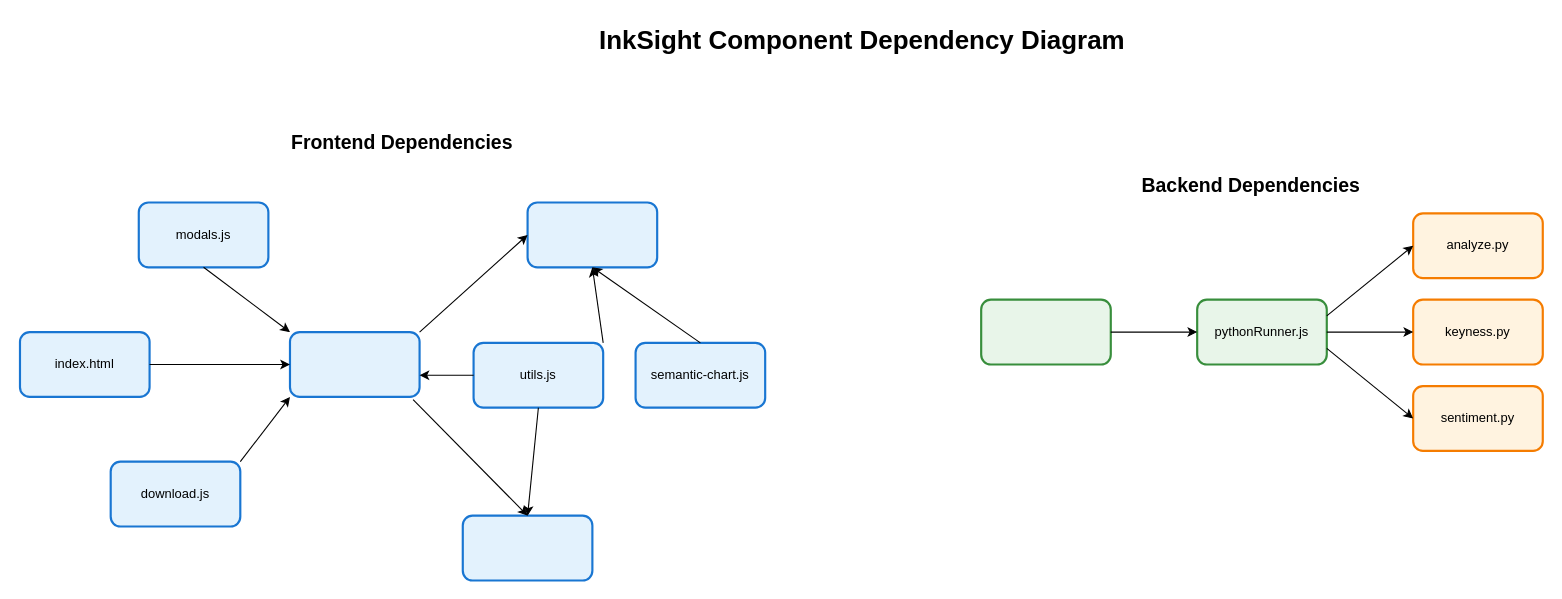
The diagram is 1562 pixels wide and 599 high, and some of its shapes have lost their labels. The shapes that lost their labels are listed below. From the top down, each one's centre as x and y in pixels, then its label:
At (x=592, y=234): "sentiment.js".
At (x=1045, y=331): "routes.js".
At (x=354, y=363): "index.js".
At (x=527, y=547): "keyness.js".
